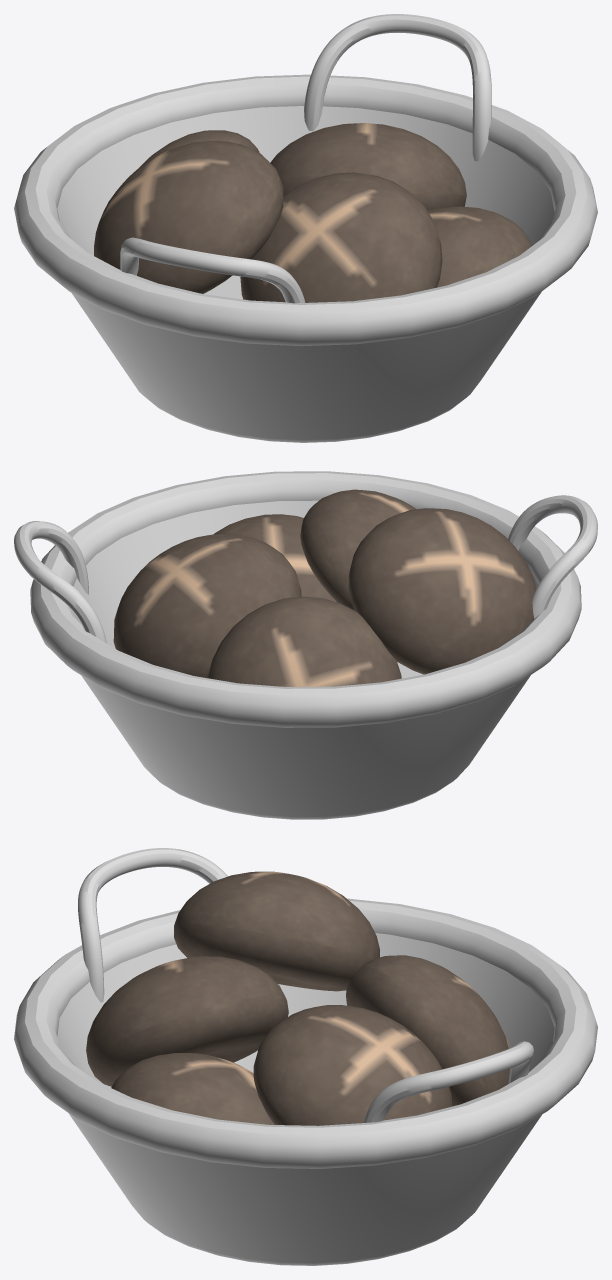
Rendered from BreadBasket.fbx.
3 renders of one model, top to bottom at view 1: azimuth 30°, elevation 25°; view 2: azimuth 150°, elevation 25°; view 3: azimuth 270°, elevation 25°, orthographic. The views are drawn at different scales.
Visible parts, largest first — view 1: Cylinder.014; view 2: Cylinder.014; view 3: Cylinder.014.
Boxes of the visible parts, x1,y1,x2,y2 form: Cylinder.014: [14, 14, 597, 442]; Cylinder.014: [14, 471, 597, 819]; Cylinder.014: [14, 848, 597, 1265].
Size of the model in its own units: 307 by 151 by 307.
